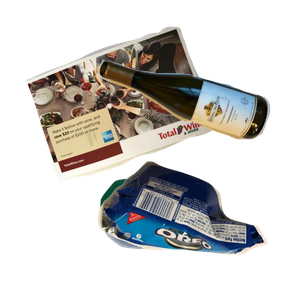glass: (95, 57, 300, 189)
paper: (23, 24, 232, 199)
plastic: (98, 176, 266, 300)
trash: (95, 158, 300, 300)
